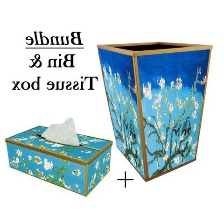tissue: (37, 113, 86, 149)
